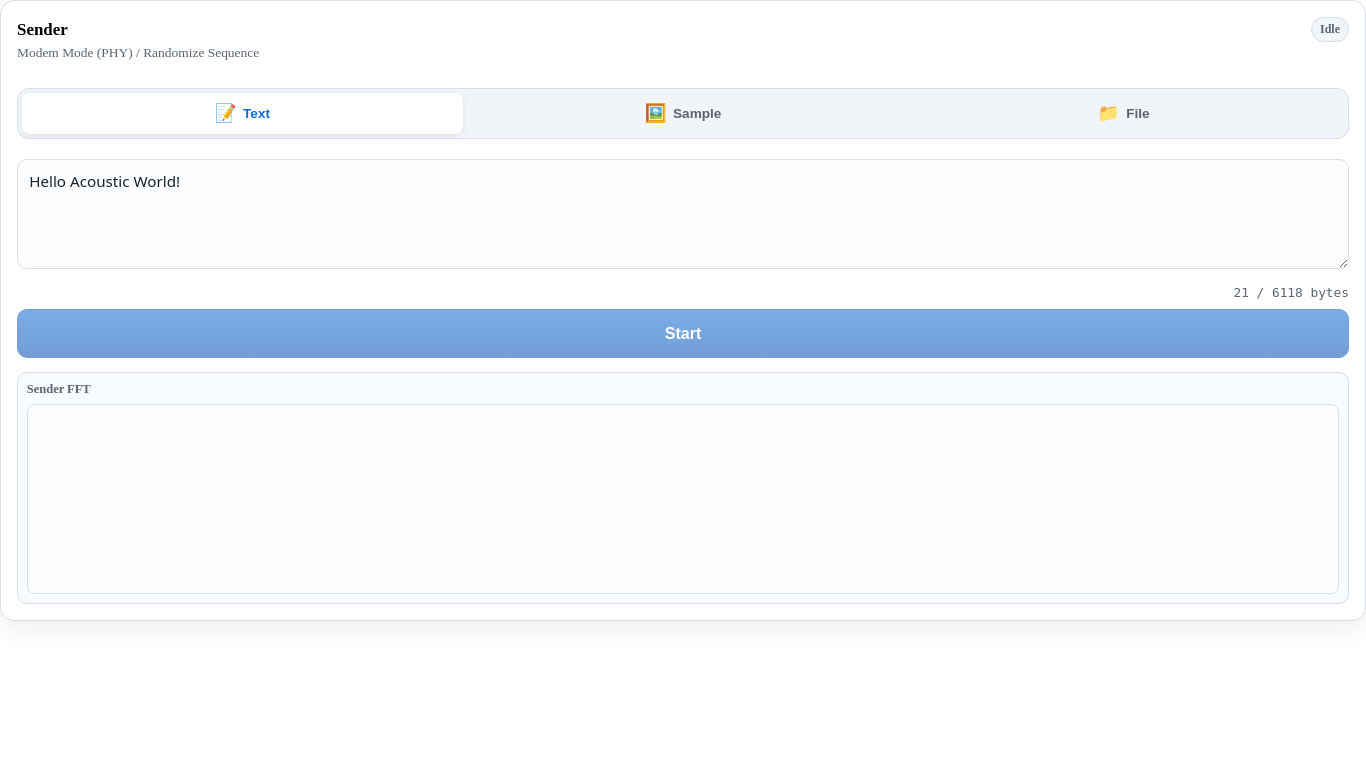
Test: Sender.vue › Sample Image Preview › should allow switching between different sample files
What coordinates should you click on to do the following:
click the button with class "tab-item" showing "🖼️ Sample"
I would click on:
 (683, 114)
Its box is [463, 93, 903, 134].
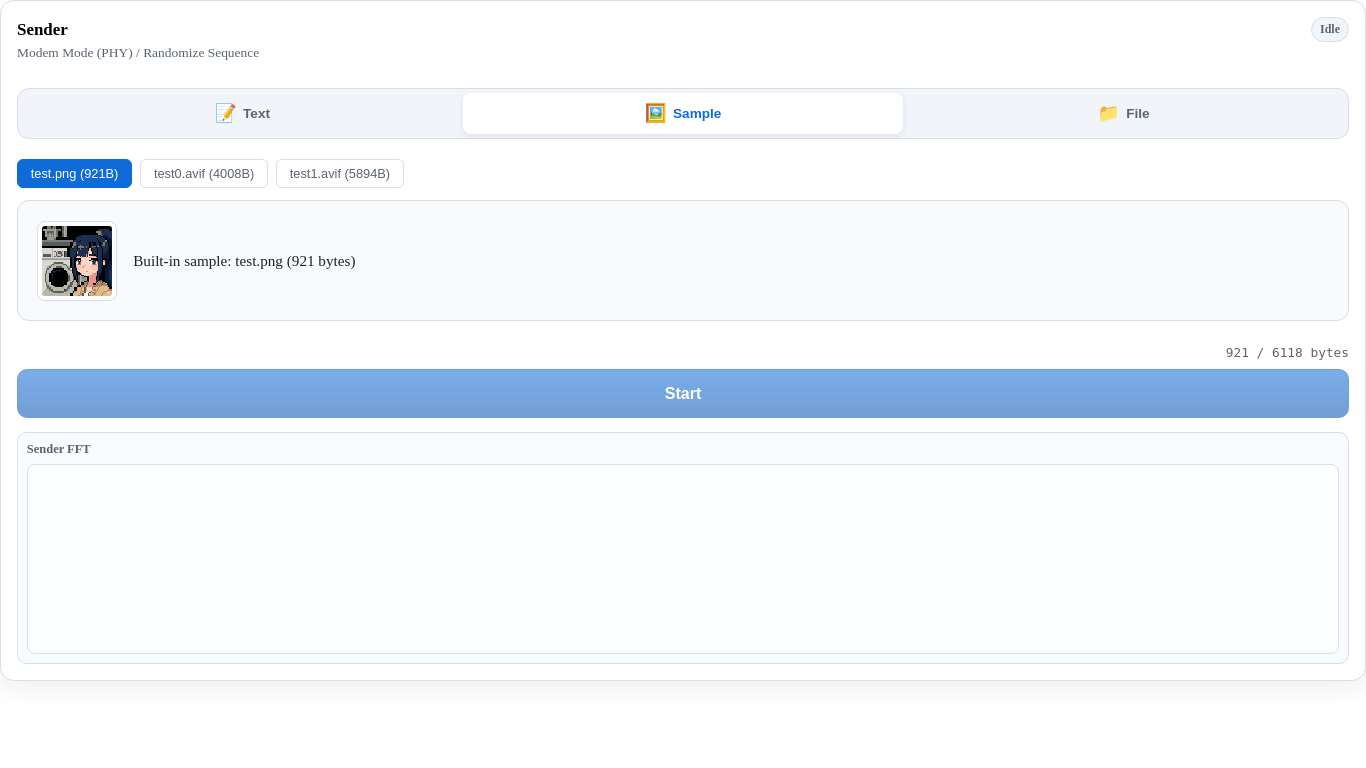
Expected: the number of buttons with class "sample-option-btn" is 3
Note: AVIF サンプルに切り替え
What coordinates should you click on to do the following:
click the button with class "sample-option-btn" showing "test0.avif (4008B)"
I would click on:
 (204, 174)
Its box is [140, 159, 268, 188].
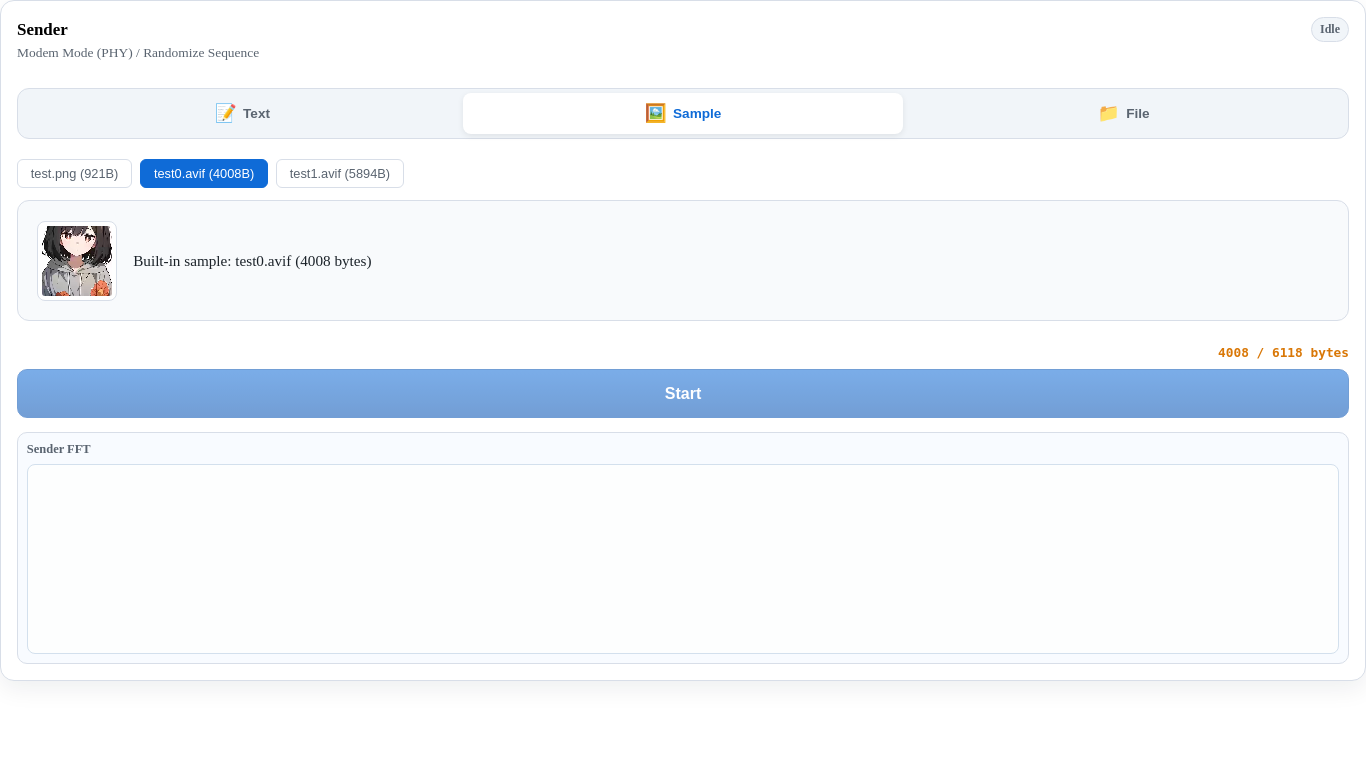
Expected: the text with class "sample-info" shows "test0.avif", [133, 252, 372, 268]
Expected: the text with class "sample-info" shows "4008", [133, 252, 372, 268]
Note: 3番目のサンプル (test1.avif) に切り替え
What coordinates should you click on to do the following:
click the button with class "sample-option-btn" showing "test1.avif (5894B)"
I would click on:
 (340, 174)
Its box is [276, 159, 404, 188].
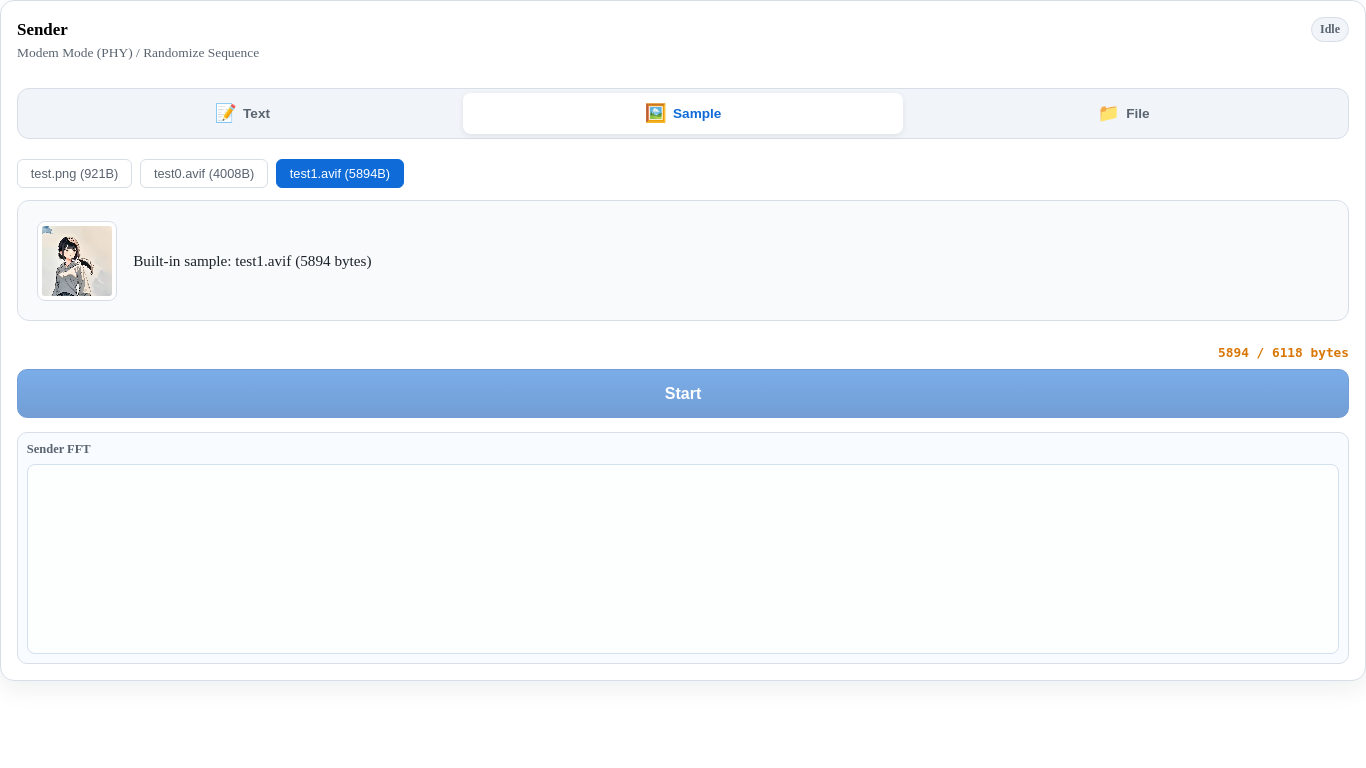
Expected: the text with class "sample-info" shows "test1.avif", [133, 252, 372, 268]
Expected: the text with class "sample-info" shows "5894", [133, 252, 372, 268]
